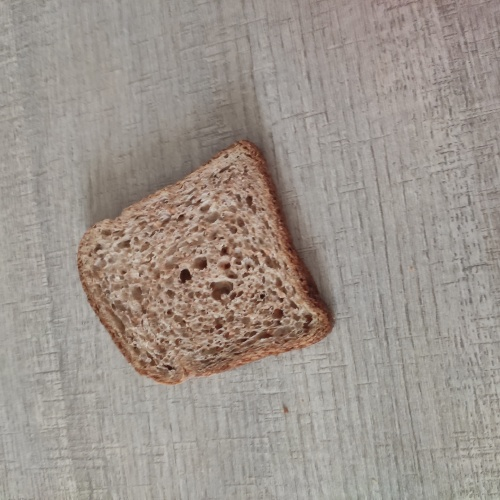pane: (71, 135, 339, 395)
